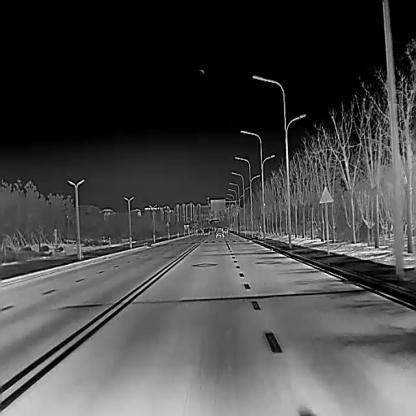car: (215, 227, 224, 237), (223, 227, 227, 233)
